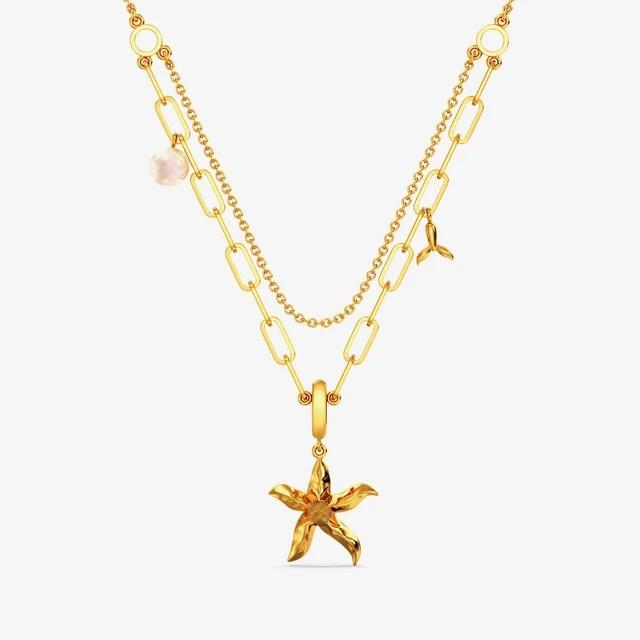missing gem: (307, 500, 330, 524)
